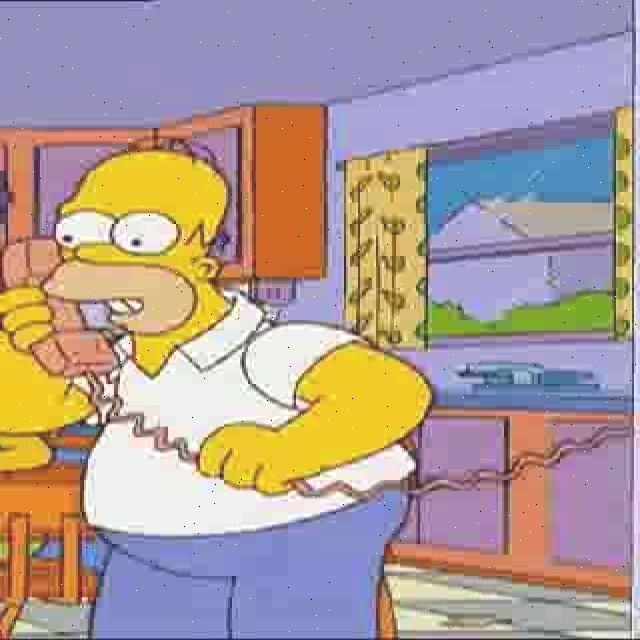Homer Simpson: (38, 143, 230, 345)
